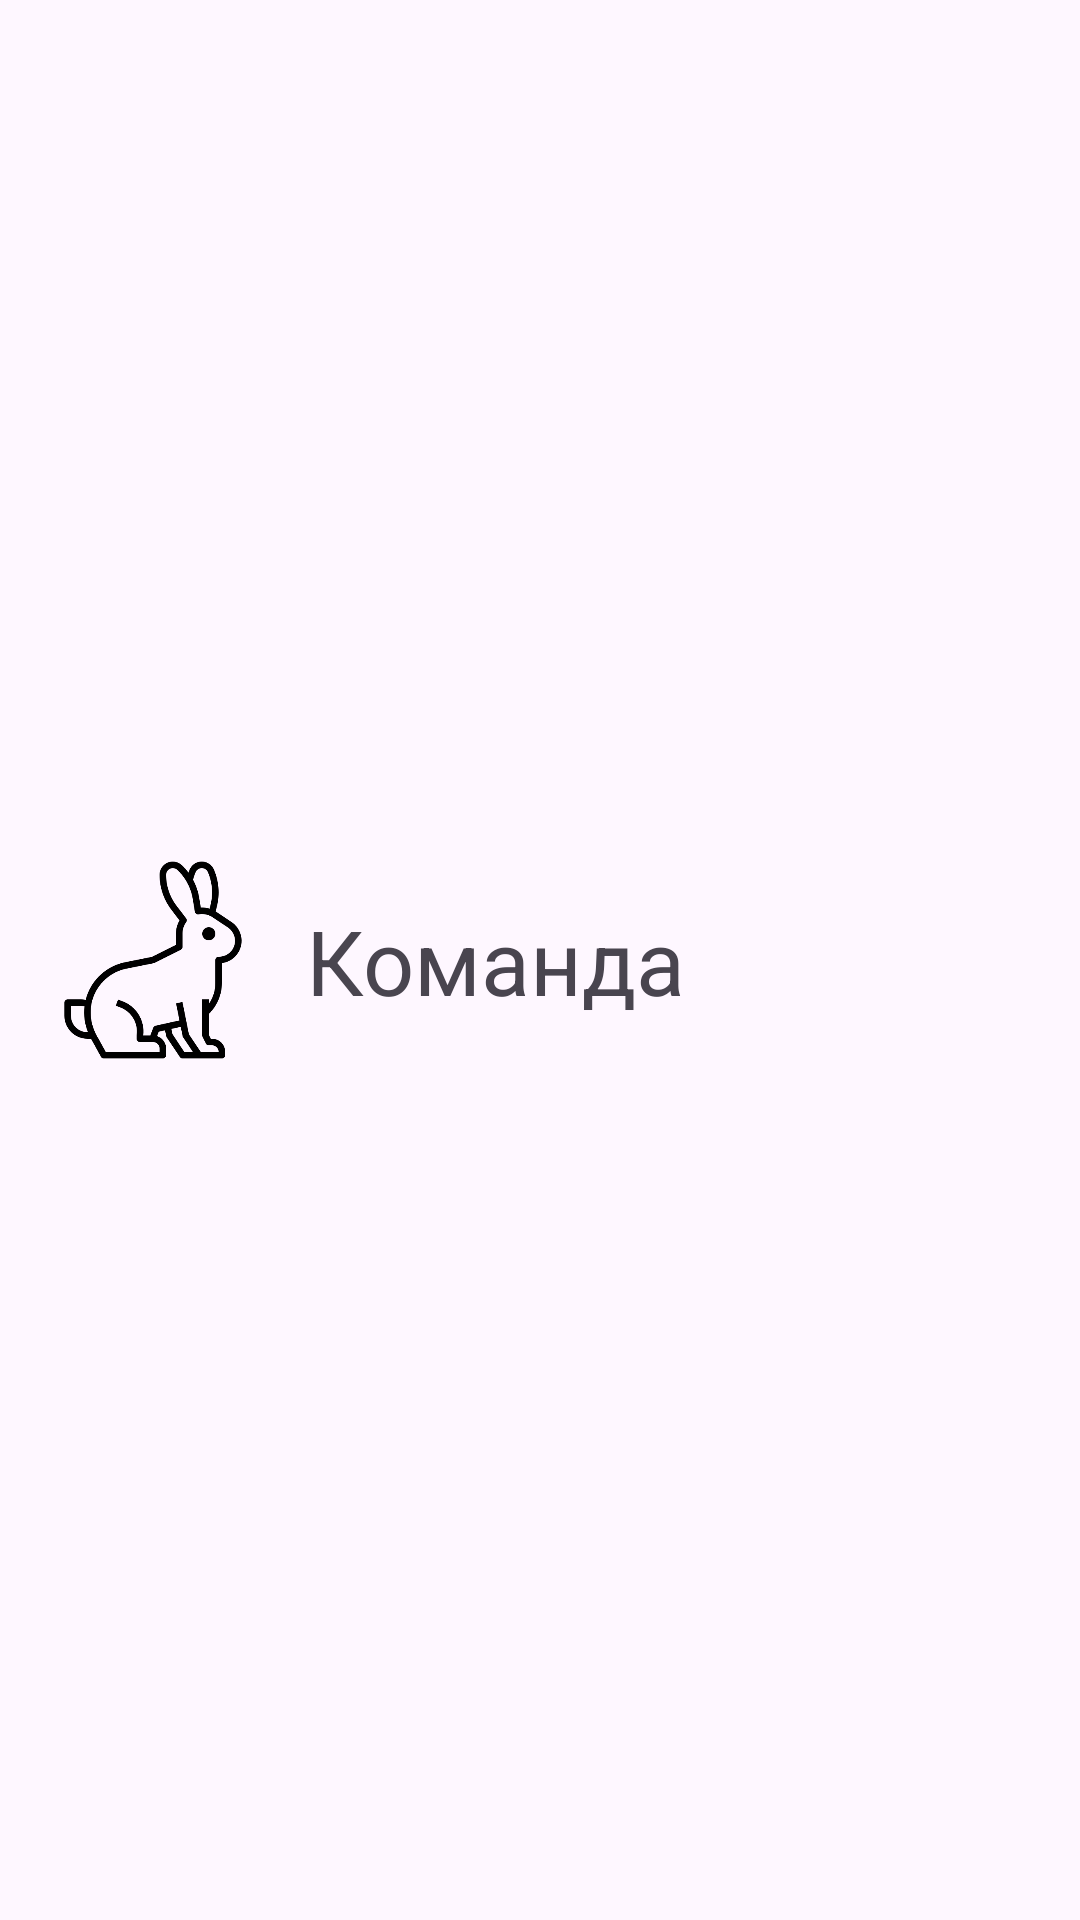

Named icons in this screenshot (1080 × 1920) and their centers, (x,y):
rabbit: (153,960)
